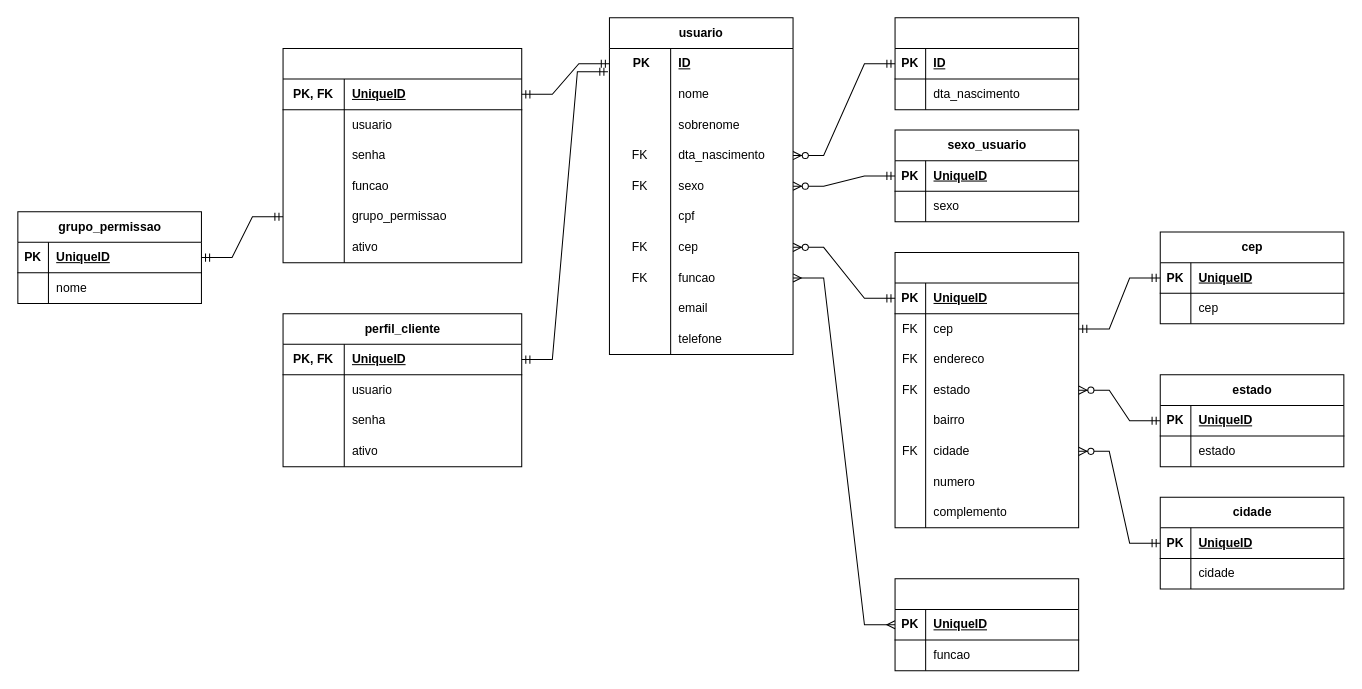
The diagram is 1362 pixels wide and 689 high, and some of its shapes have lost their labels. Here are the shapes that lost their labels. From the top down, the box of each, then its label:
(894, 17, 1079, 110): dta_nascimento_usuario
(282, 47, 522, 263): perfil_colaborador
(894, 251, 1079, 528): cep_usuario
(894, 578, 1079, 671): funcao_usuario
